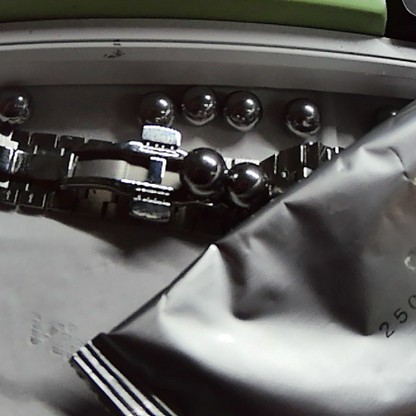ironball: (224, 159, 280, 214), (177, 140, 226, 198), (178, 81, 221, 128), (279, 93, 327, 135), (218, 86, 261, 131), (135, 89, 180, 128), (0, 83, 36, 125)
